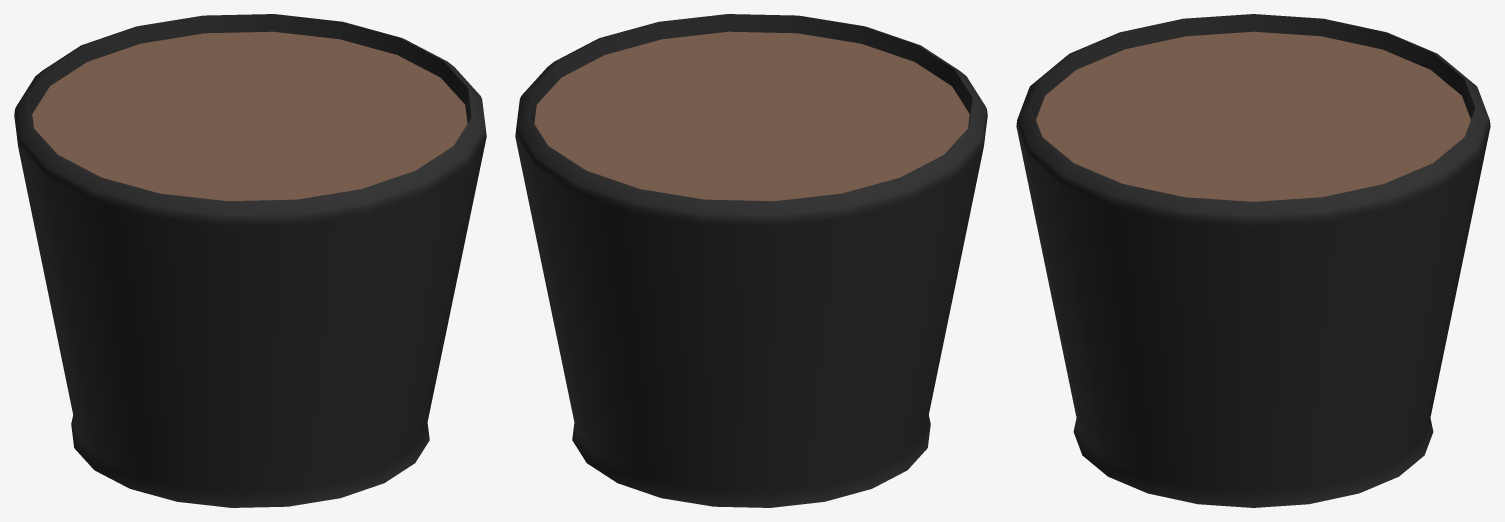
The model's file is PlantPotBlack.fbx.
The picture shows the model from 3 angles, left to right: view 1: azimuth 30°, elevation 25°; view 2: azimuth 150°, elevation 25°; view 3: azimuth 270°, elevation 25°; orthographic projection.
Parts seen in each view (by area): view 1: pCylinder35; view 2: pCylinder35; view 3: pCylinder35.
Boxes of the visible parts, x1,y1,x2,y2 form: pCylinder35: (14,14,486,507); pCylinder35: (515,14,987,507); pCylinder35: (1016,14,1490,507).
Bounding box in the file's own units: 0.8286 × 0.6245 × 0.8286.
